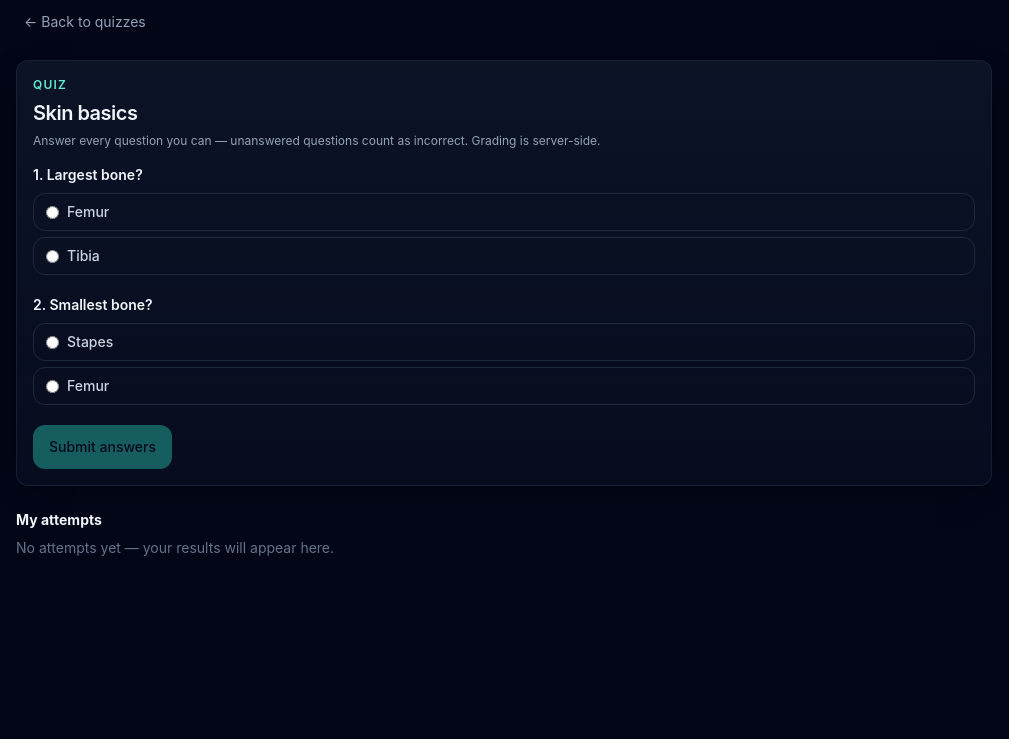
it: student quizzes UI › submits answers and shows the server-graded result
The width and height of the screenshot is (1009, 739).
Expected: the heading "Skin basics" is shown, [33, 101, 137, 125]
What coordinates should you click on to do the following:
click the radio button with test id "quiz-take-option" below "Largest bone?"
I would click on:
 (52, 212)
Its box is [46, 206, 59, 218].
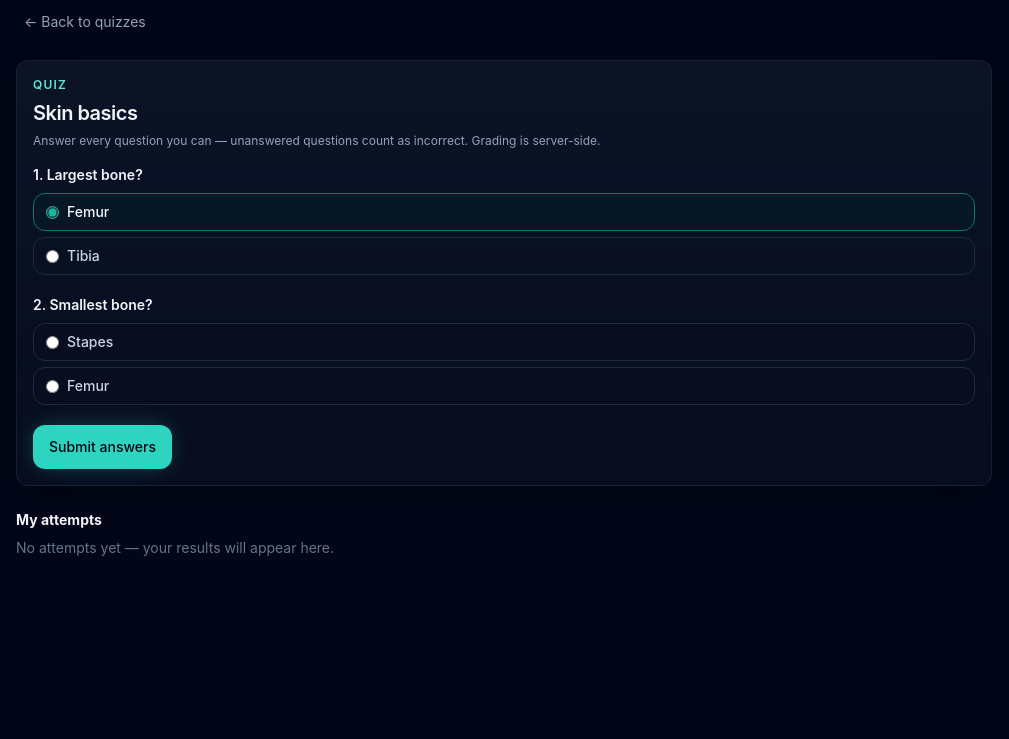
What coordinates should you click on to do the following:
click the radio button with test id "quiz-take-option" below "Stapes"
I would click on:
 (52, 386)
Its box is [46, 380, 59, 392].
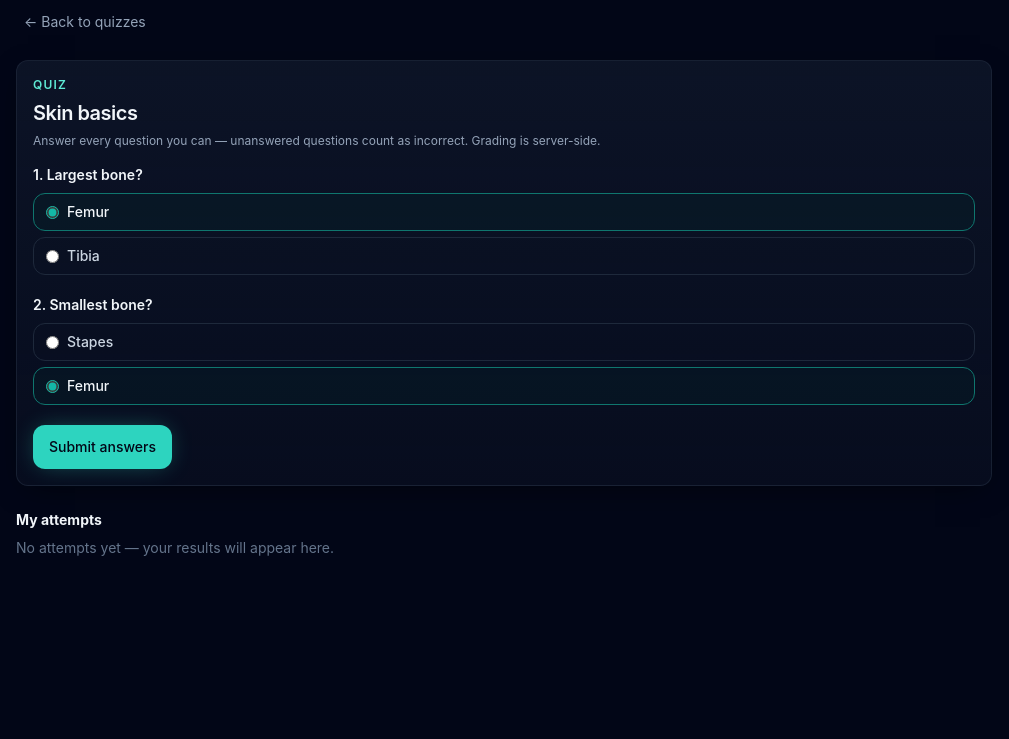
Expected: the button with test id "quiz-take-submit" is enabled
What coordinates should you click on to do the following:
click the button with test id "quiz-take-submit"
I would click on:
 (102, 447)
Its box is [33, 425, 172, 469].
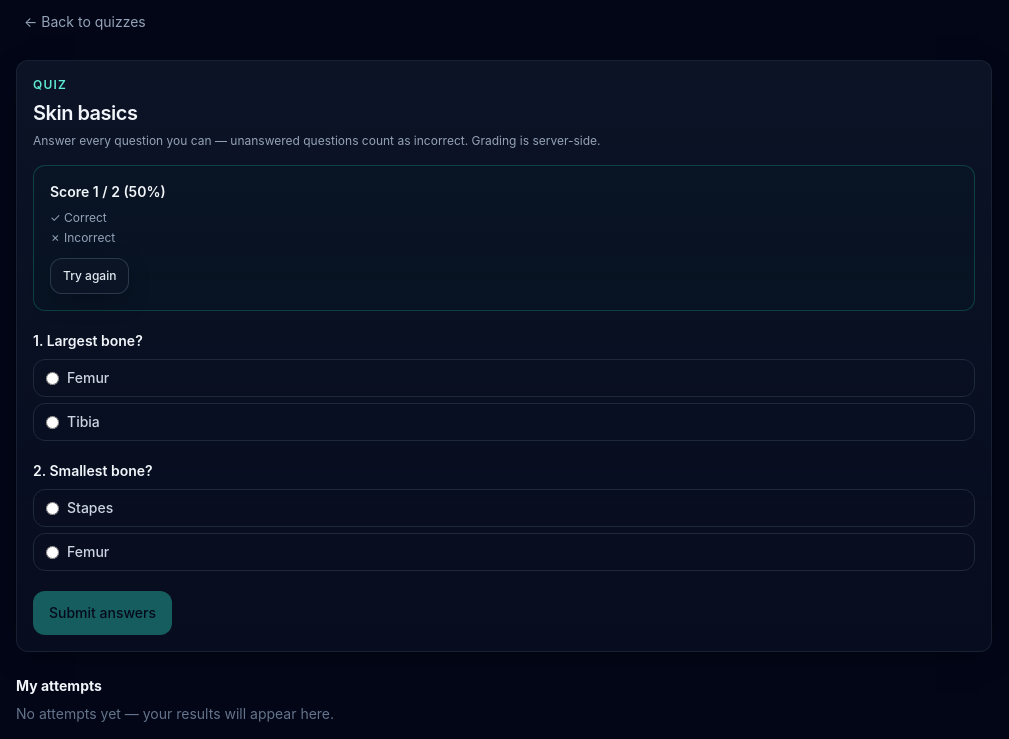
Expected: the message with test id "quiz-take-result" shows "1 / 2", [33, 165, 975, 311]
